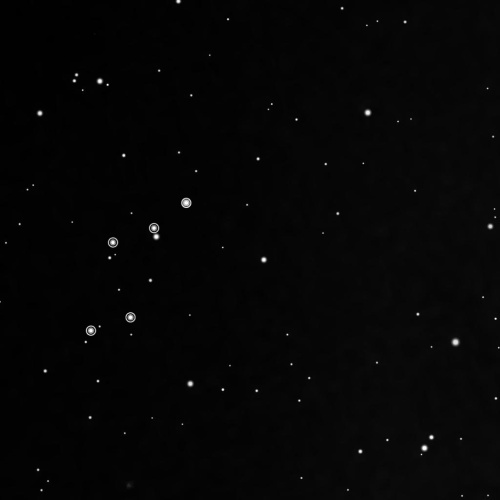lyra: (83, 190, 194, 340)
